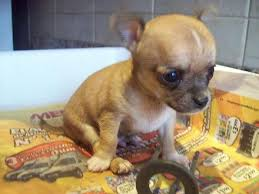chihuahua: (43, 5, 240, 180)
